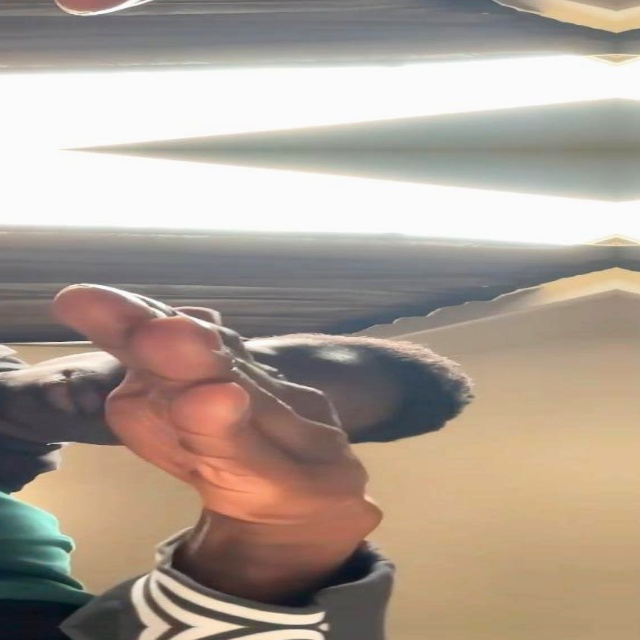Paper: (47, 0, 372, 17)
